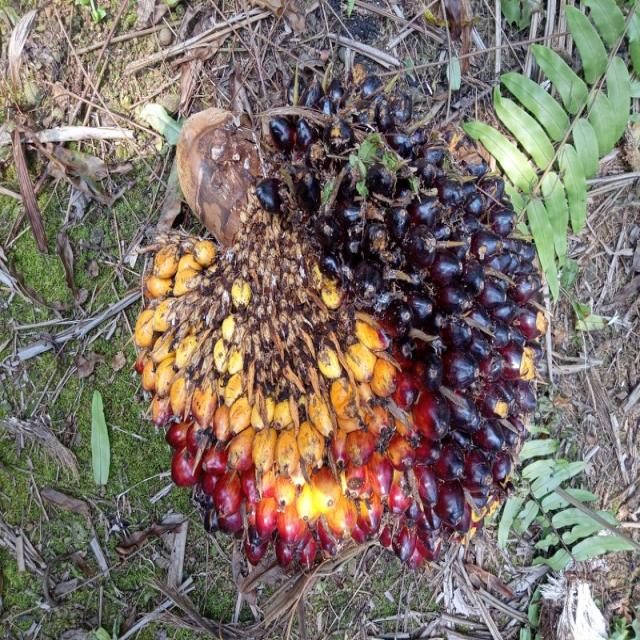fraksi 1: (144, 104, 550, 569)
